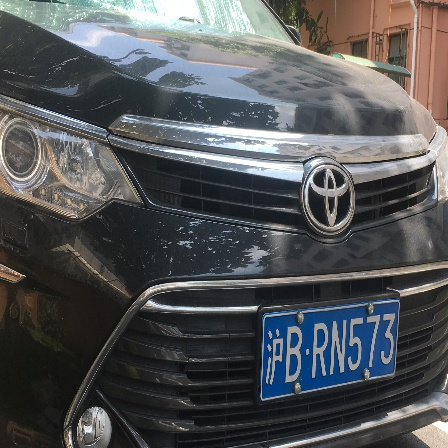plate: (265, 310, 401, 389)
